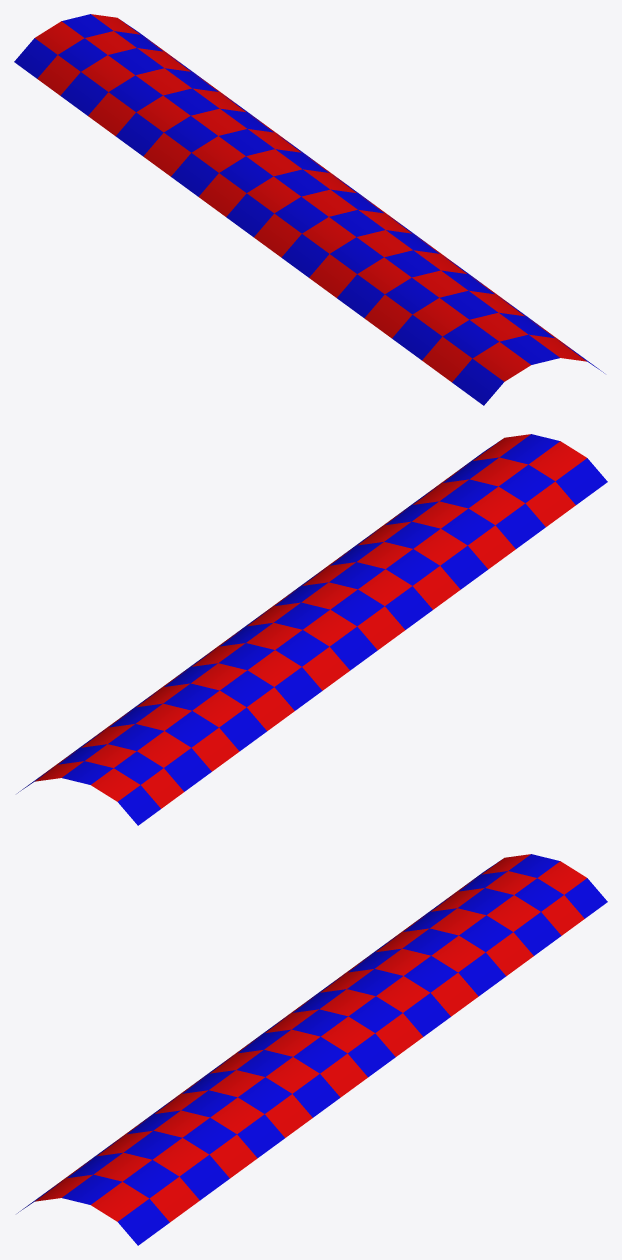
The model's file is tetto.fbx.
3 renders of one model, top to bottom at view 1: azimuth 30°, elevation 25°; view 2: azimuth 150°, elevation 25°; view 3: azimuth 330°, elevation 25°, orthographic.
Parts seen in each view (by area): view 1: tetto; view 2: tetto; view 3: tetto.
Boxes of the visible parts, box(x1,y1,x2,y2) form: tetto: box(14, 14, 604, 405); tetto: box(17, 434, 607, 825); tetto: box(17, 854, 607, 1245).
Size of the model in its own units: 799 by 180 by 5238.
